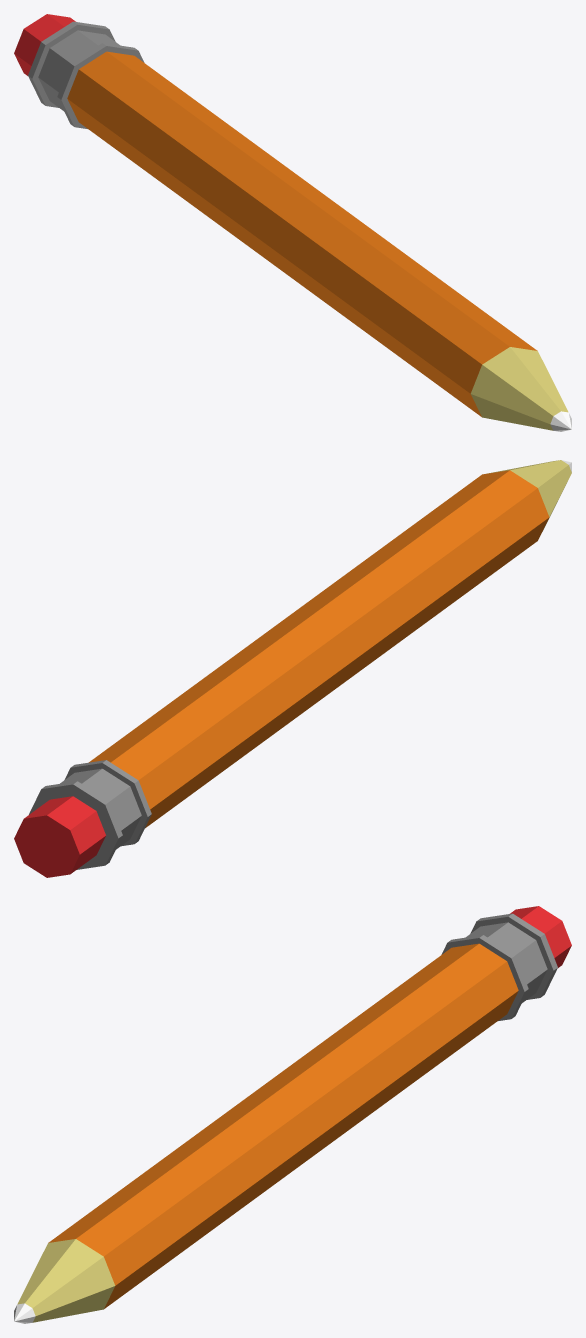
File: pencil.glb
The picture shows the model from 3 angles, top to bottom: view 1: azimuth 30°, elevation 25°; view 2: azimuth 150°, elevation 25°; view 3: azimuth 330°, elevation 25°; orthographic projection.
Visible parts, largest first — view 1: Cube, Cube.002, Cube.003, Cube.004; view 2: Cube, Cube.003, Cube.004, Cube.002; view 3: Cube, Cube.002, Cube.003, Cube.004.
Boxes of the visible parts, x1=… form: Cube: x1=67, y1=51, x2=537, y2=416; Cube.002: x1=470, y1=347, x2=568, y2=430; Cube.003: x1=28, y1=21, x2=144, y2=128; Cube.004: x1=14, y1=14, x2=75, y2=75; Cube: x1=89, y1=470, x2=549, y2=828; Cube.003: x1=29, y1=760, x2=151, y2=869; Cube.004: x1=14, y1=796, x2=105, y2=877; Cube.002: x1=487, y1=460, x2=571, y2=531; Cube: x1=48, y1=943, x2=518, y2=1308; Cube.002: x1=17, y1=1239, x2=115, y2=1322; Cube.003: x1=441, y1=913, x2=557, y2=1020; Cube.004: x1=510, y1=906, x2=571, y2=967.
Bounding box in the file's own units: 0.0129 × 0.0117 × 0.1292.
